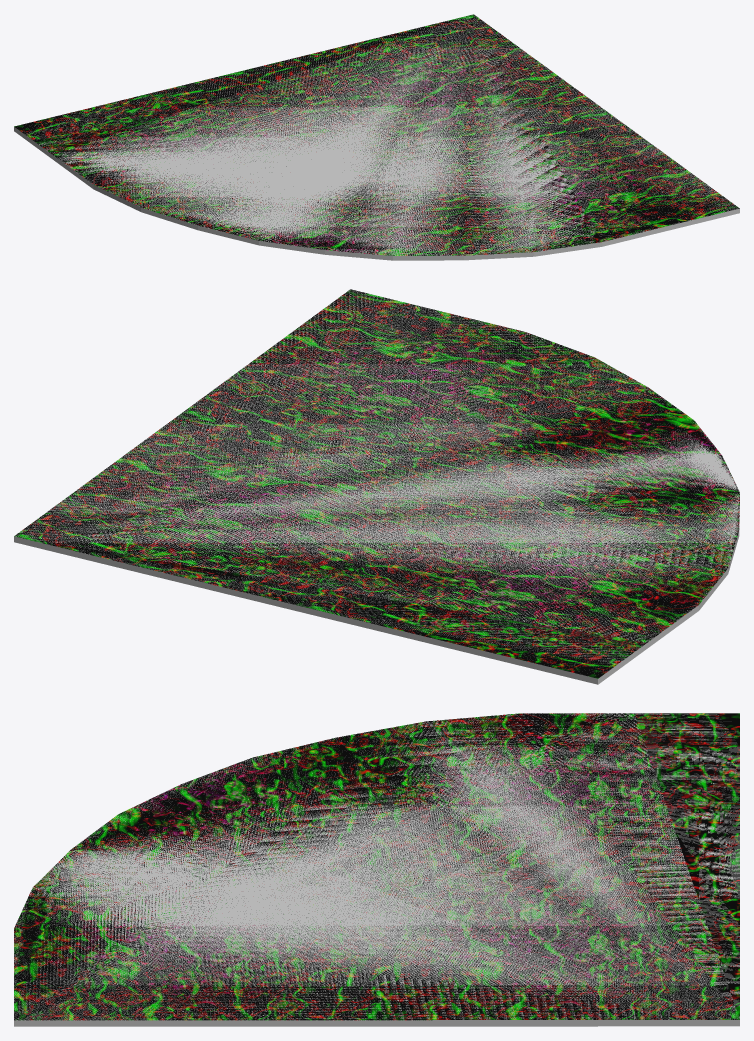
File: floor_corner_large_SM.fbx
3 renders of one model, top to bottom at view 1: azimuth 30°, elevation 25°; view 2: azimuth 150°, elevation 25°; view 3: azimuth 270°, elevation 25°, orthographic. The views are drawn at different scales.
Parts seen in each view (by area): view 1: floor_corner_large_SM_ConvexHulls, floor_corner_large_SM; view 2: floor_corner_large_SM, floor_corner_large_SM_ConvexHulls; view 3: floor_corner_large_SM, floor_corner_large_SM_ConvexHulls.
Part boxes in pixels (x1=…): floor_corner_large_SM_ConvexHulls: x1=14, y1=14, x2=739, y2=260; floor_corner_large_SM: x1=14, y1=14, x2=739, y2=255; floor_corner_large_SM: x1=14, y1=289, x2=739, y2=678; floor_corner_large_SM_ConvexHulls: x1=14, y1=289, x2=739, y2=684; floor_corner_large_SM: x1=14, y1=713, x2=739, y2=1020; floor_corner_large_SM_ConvexHulls: x1=14, y1=713, x2=739, y2=1026.
Bounding box in the file's own units: 2051 × 2048 × 20.
2 materials, 1 textured.
